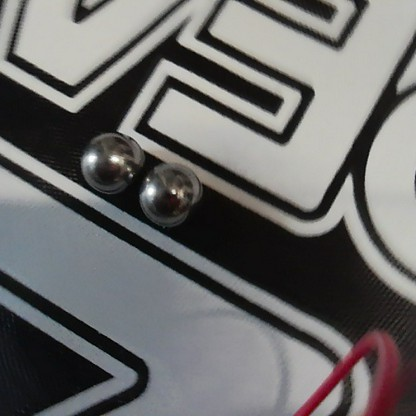ironball: (81, 133, 141, 192), (143, 163, 201, 224)
